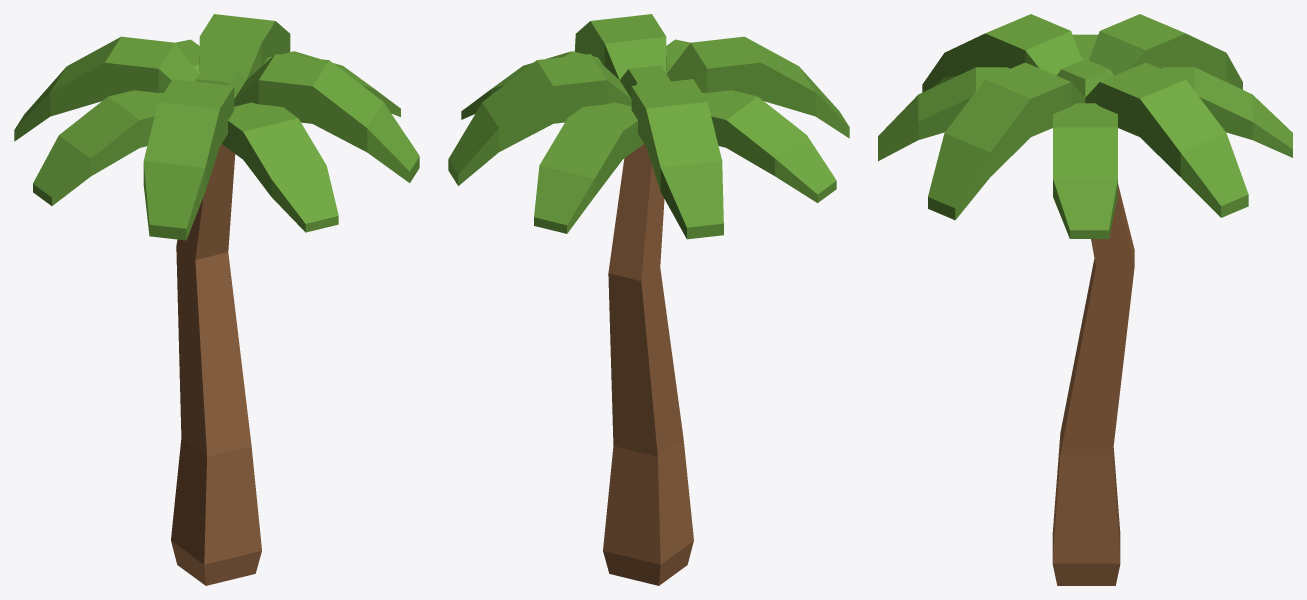
Rendered from tree_palmDetailedTall.glb.
3 views of the same model, side by side, from view 1: azimuth 30°, elevation 25°; view 2: azimuth 150°, elevation 25°; view 3: azimuth 270°, elevation 25° (orthographic).
Visible parts, largest first — view 1: leafs (×2), tree_palmDetailedTall; view 2: leafs (×2), tree_palmDetailedTall; view 3: leafs (×2), tree_palmDetailedTall.
Part boxes in pixels (x1,y1,x2,y2): leafs (×2): (14, 14, 419, 240); tree_palmDetailedTall: (171, 144, 261, 585); leafs (×2): (448, 14, 849, 239); tree_palmDetailedTall: (603, 144, 693, 585); leafs (×2): (878, 14, 1292, 238); tree_palmDetailedTall: (1052, 184, 1134, 585).
Size of the model in its own units: 1.03 by 1.42 by 1.03.
